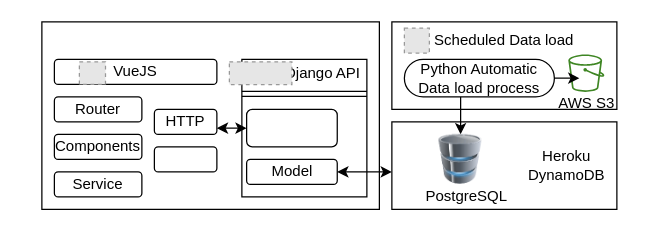
Some shapes in this 646 by 231 pixel diagram are drawn without their labels. Grey dashed boxes stand in for pictures. The centre of each missing label's shape, as x and y in pixels:
Axios: [185,159]
Heroku Application Server: [141,40]
Rest Framework: [291,127]
